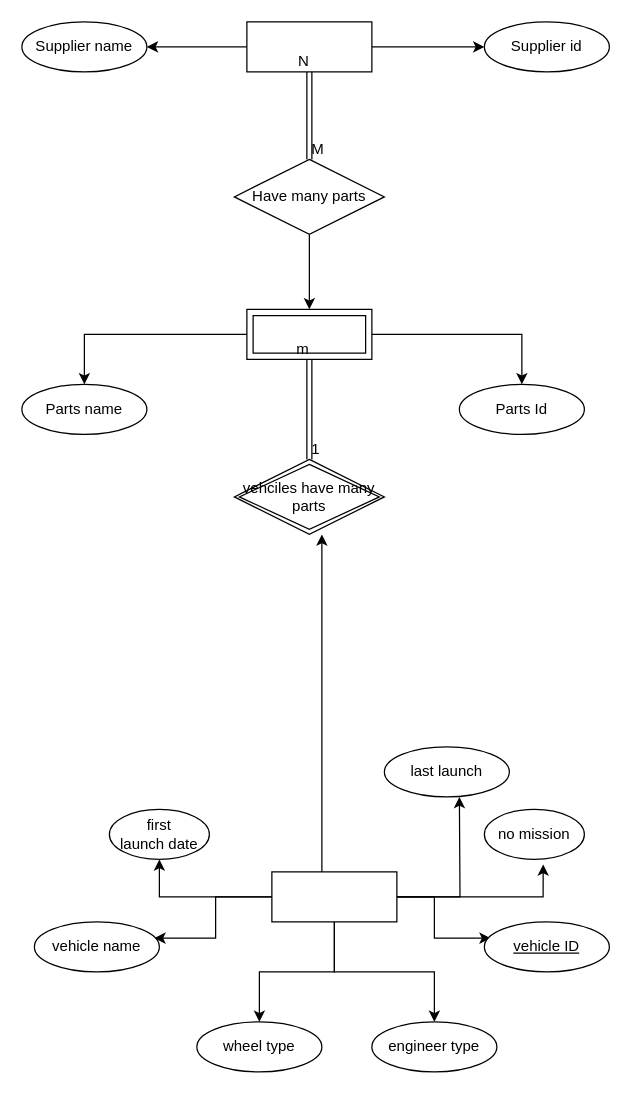
Image size: 631x1094. Some labels were removed from this diagram. The box of each missing label's shape, as (x1, y1, x2, y2) in pixels:
Different Parts: (246, 308, 372, 359)
Supplier of parts: (246, 21, 372, 72)
vehicles: (271, 871, 397, 922)
